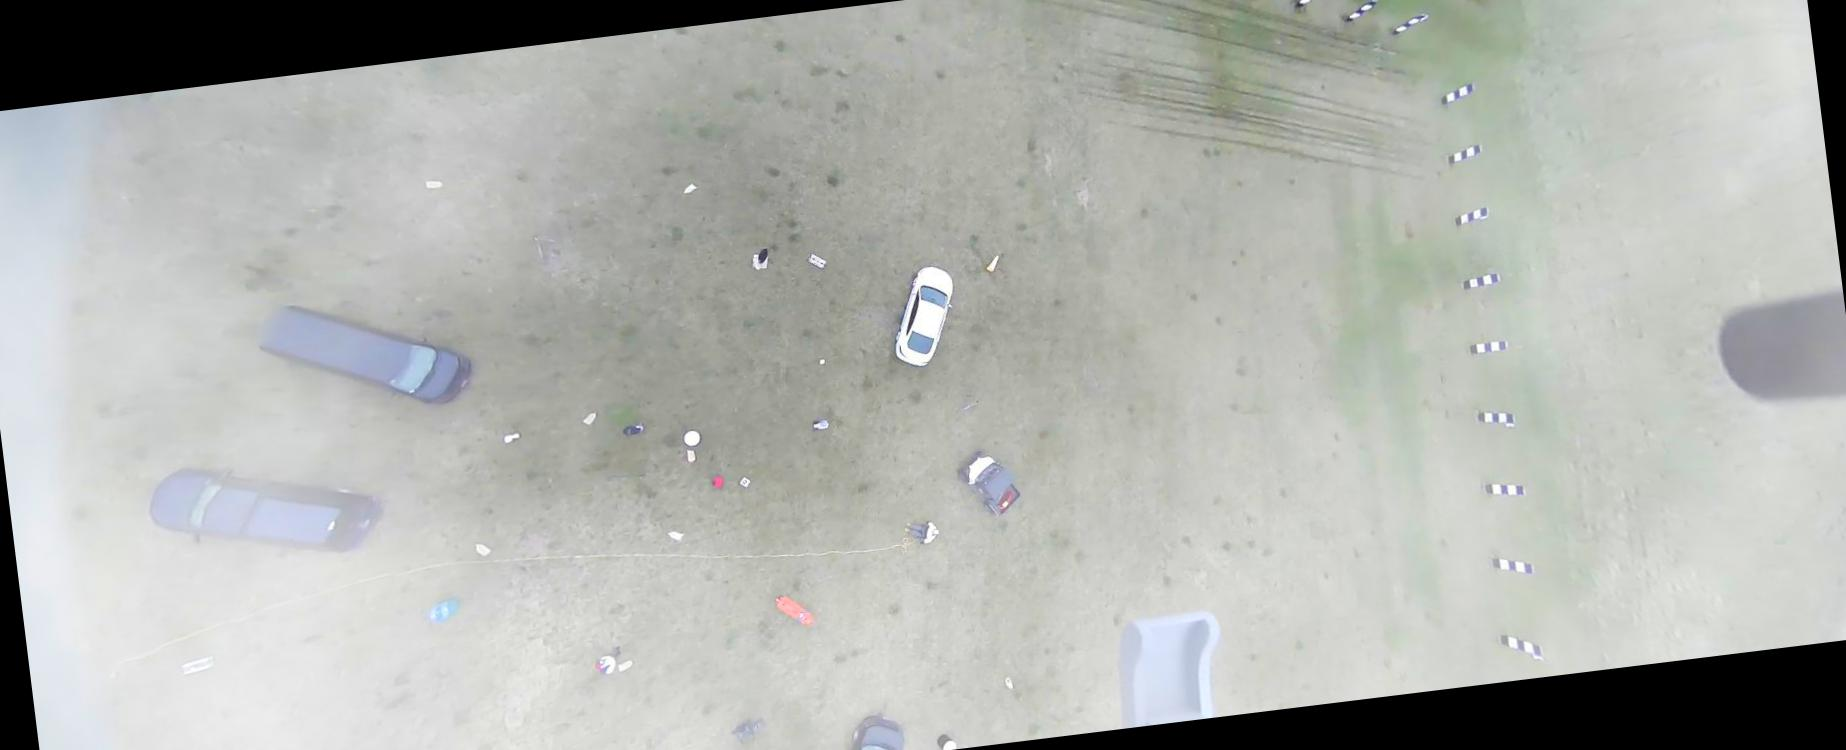vehicle: (142, 443, 387, 575), (254, 283, 474, 426), (884, 263, 962, 369), (955, 445, 1024, 522), (837, 714, 908, 749)
